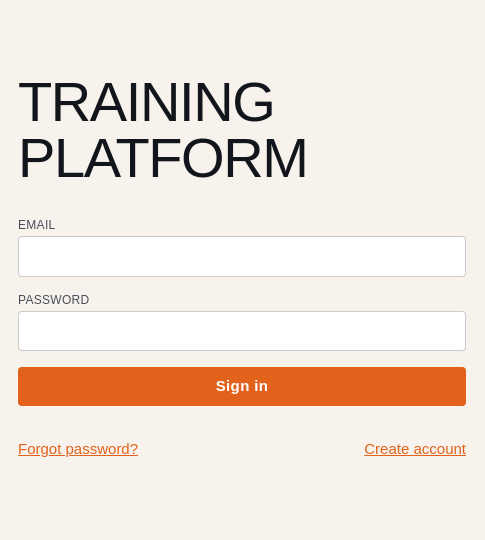
Test: LoginPage › should show a distinct EMAIL_NOT_VERIFIED banner with a resend action, not a generic field error
In the field labelled "Email": (242, 256) [18, 236, 466, 276], type "parent@example.com"
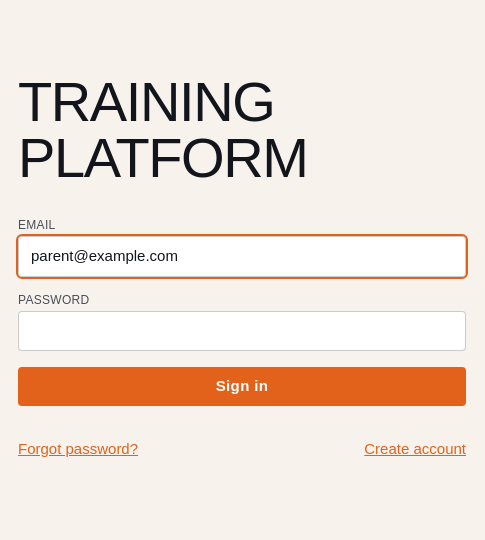
In the password field labelled "Password": (242, 331) [18, 311, 466, 351], type "Passw0rd!"
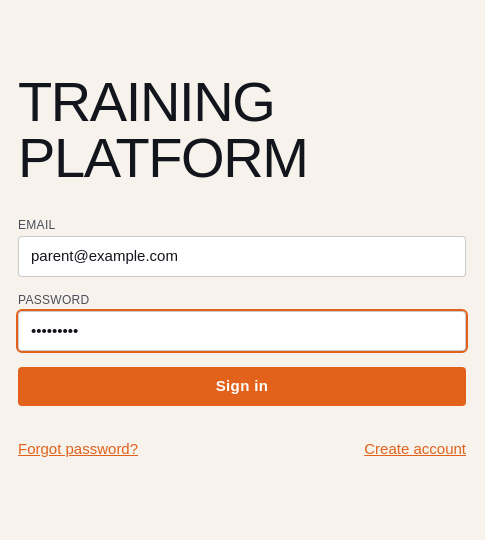
Click the button "Sign in": (242, 387) [18, 367, 466, 406]
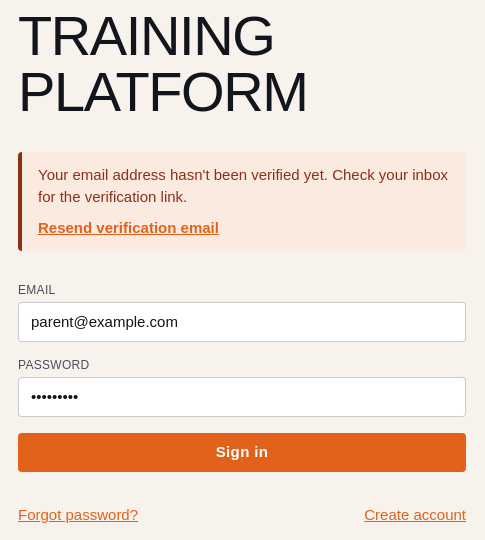
Check: the message shows "hasn.t been verified", box [38, 166, 448, 205]
Click the button "Resend verification email": (128, 228) [38, 217, 219, 239]
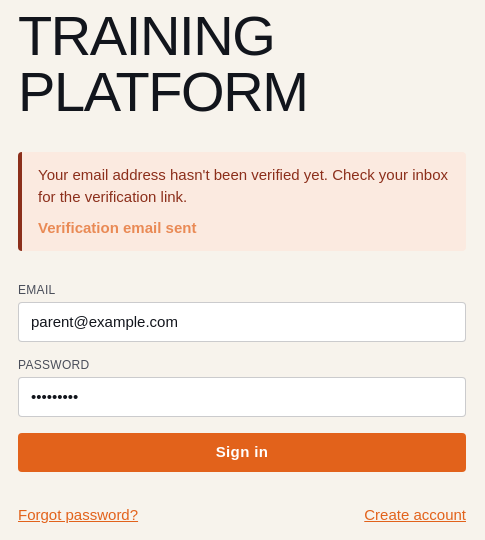
Check: the button "Verification email sent" is shown, box [38, 217, 196, 239]
